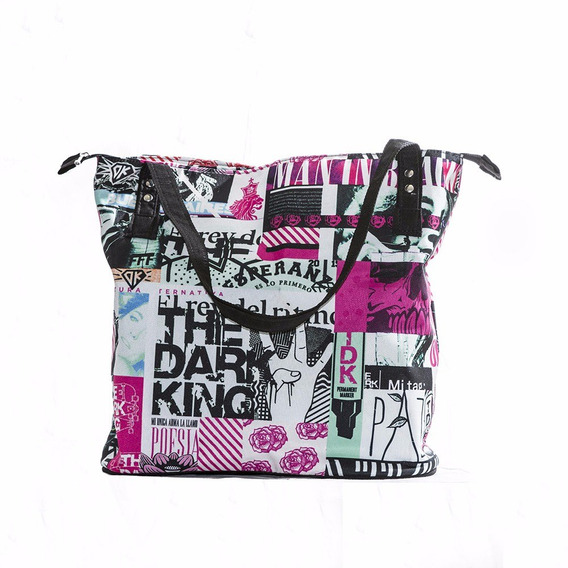cartera: (55, 141, 504, 482)
